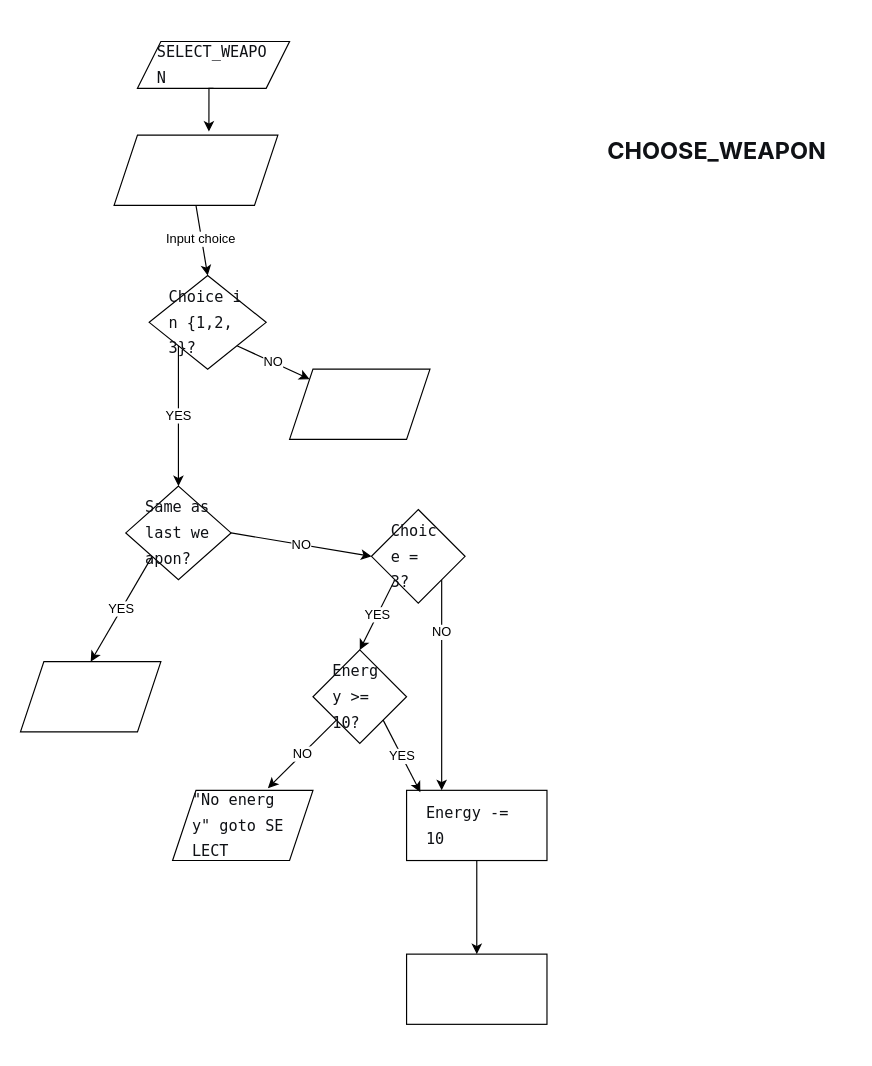
Some shapes in this 872 by 1066 pixel diagram are drawn without their labels. Here are the shapes that lost their labels. From the top down, the centre of each, then its label:
(195,169): Display weapon menu (1,2,3)
(359,403): "Invalid", goto SELECT_WEAPON
(90,696): "Weapon overheat" goto SELECT
(476,988): LastWeapon = choice Return
